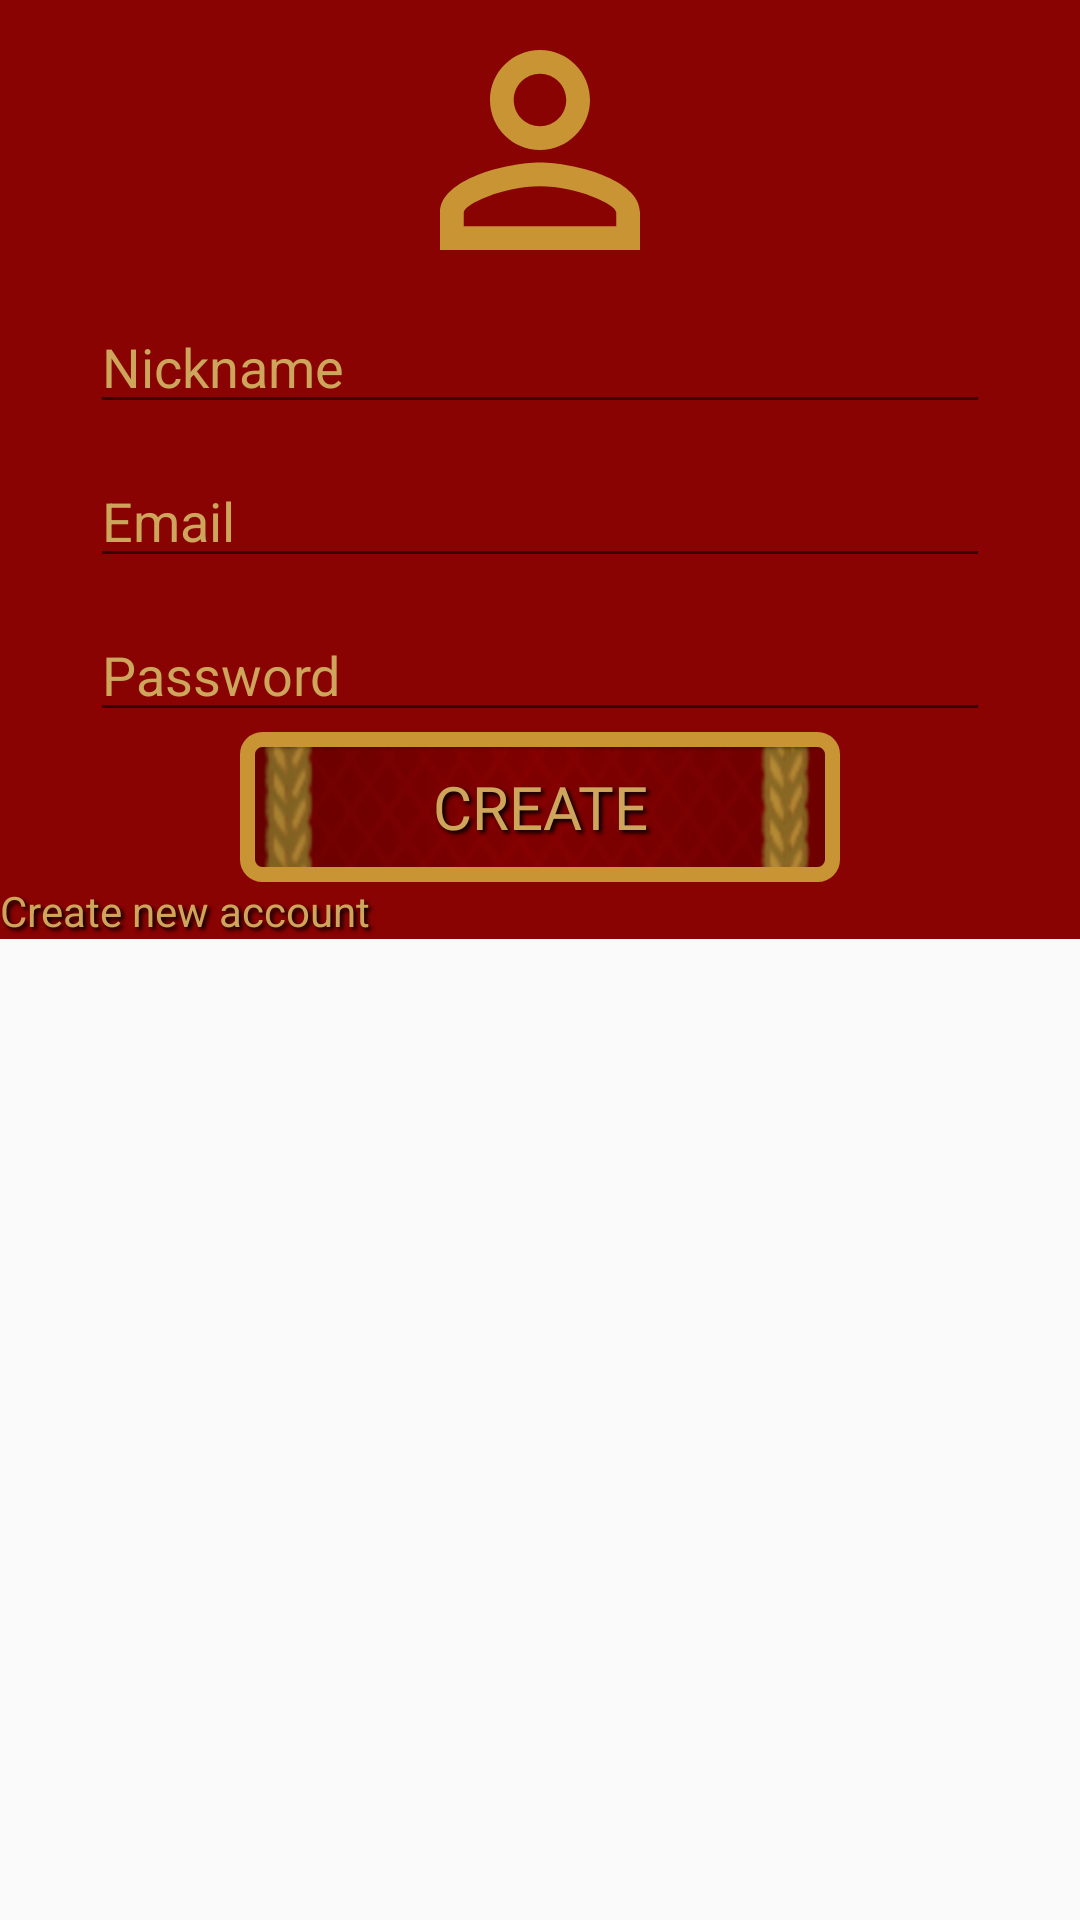

Screen size 1080px×1920px. Icon name, then its box in pixels as [x1=x1, y1=y1, x2=x2, y2=y2]:
person: [x1=440, y1=50, x2=640, y2=250]
